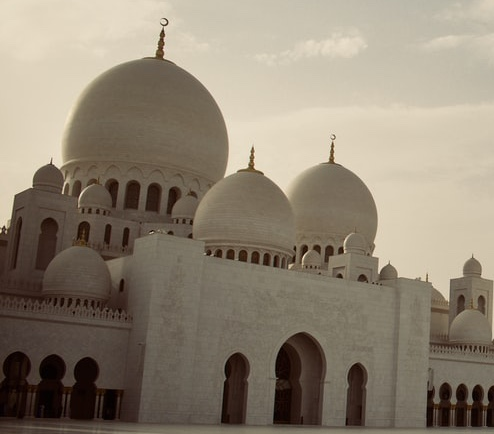Mosque: (14, 15, 485, 417)
